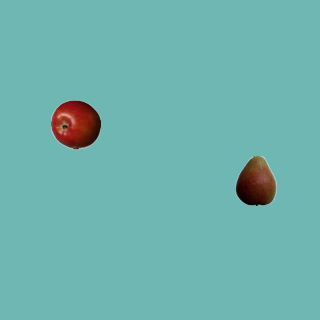Apple Braeburn: (50, 99, 100, 149)
Pear Forelle: (230, 155, 280, 205)
